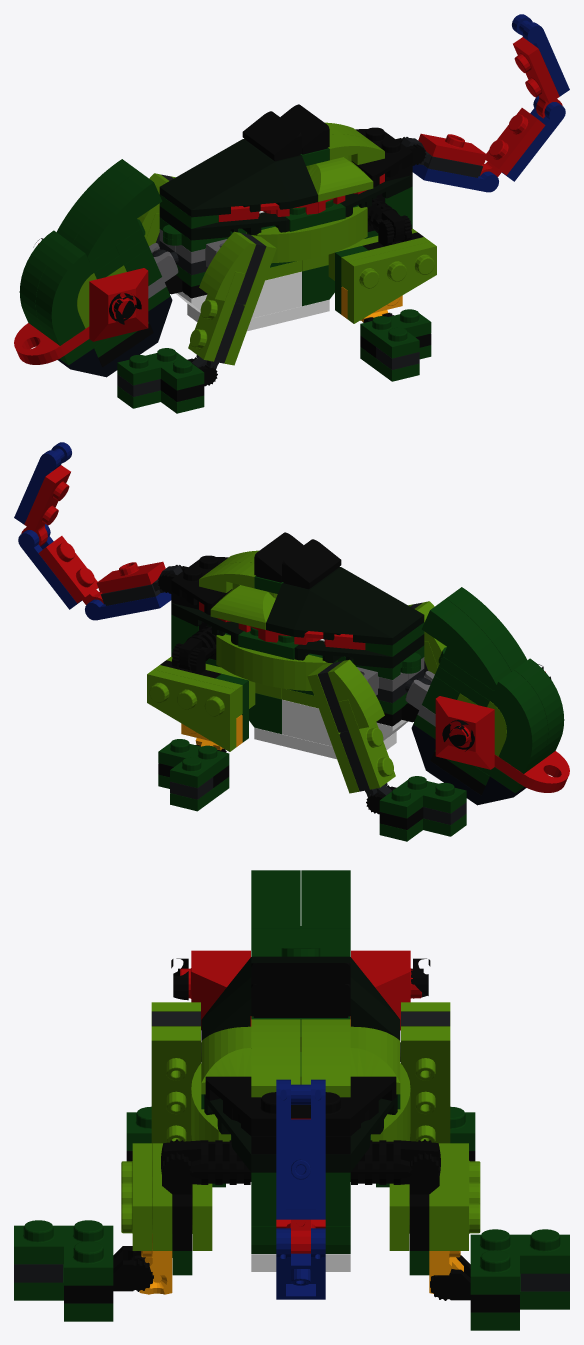
The model's file is Rainforest Animals.dae.
3 views of the same model, one above another, from view 1: azimuth 30°, elevation 25°; view 2: azimuth 150°, elevation 25°; view 3: azimuth 270°, elevation 25° (orthographic). The views are drawn at different scales.
Parts seen in each view (by area): view 1: Part.37, Part.114, Part.78, Part.81, Part.73, Part.19, Part.90, Part.117, Part.87, Part.56, Part.88, Part.80 (+48 smaller); view 2: Part.37, Part.98, Part.79, Part.80, Part.74, Part.18, Part.109, Part.101, Part.106, Part.56, Part.107, Part.81 (+48 smaller); view 3: Part.59, Part.32, Part.117, Part.101, Part.84, Part.103, Part.37, Part.38, Part.39, Part.30, Part.40, Part.57 (+39 smaller).
Boxes of the visible parts, <box> form: Part.37: <box>159,138,317,217</box>; Part.114: <box>347,241,436,323</box>; Part.78: <box>35,242,119,345</box>; Part.81: <box>72,171,162,262</box>; Part.73: <box>89,268,148,341</box>; Part.19: <box>253,206,367,263</box>; Part.90: <box>117,348,204,390</box>; Part.117: <box>360,309,431,358</box>; Part.87: <box>188,271,245,361</box>; Part.56: <box>480,108,545,176</box>; Part.88: <box>199,231,256,300</box>; Part.80: <box>57,159,137,243</box>; Part.37: <box>266,566,424,645</box>; Part.98: <box>147,669,236,751</box>; Part.79: <box>464,670,548,773</box>; Part.80: <box>421,599,511,690</box>; Part.74: <box>435,696,494,769</box>; Part.18: <box>216,634,330,691</box>; Part.109: <box>379,776,466,818</box>; Part.101: <box>158,739,229,787</box>; Part.106: <box>338,699,395,789</box>; Part.56: <box>38,536,103,604</box>; Part.107: <box>327,659,384,728</box>; Part.81: <box>446,587,526,671</box>; Part.59: <box>276,1079,325,1219</box>; Part.32: <box>205,1076,396,1136</box>; Part.117: <box>14,1220,113,1285</box>; Part.101: <box>470,1229,569,1294</box>; Part.84: <box>151,1026,200,1160</box>; Part.103: <box>401,1026,450,1143</box>; Part.37: <box>201,956,400,1040</box>; Part.38: <box>251,1019,300,1097</box>; Part.39: <box>301,1019,350,1097</box>; Part.30: <box>204,1094,397,1172</box>; Part.40: <box>251,984,350,1017</box>; Part.57: <box>276,1228,325,1299</box>.
Bounding box in the file's own units: 157 × 69.91 × 89.18.
Materials: 13 (1 with a texture image).
